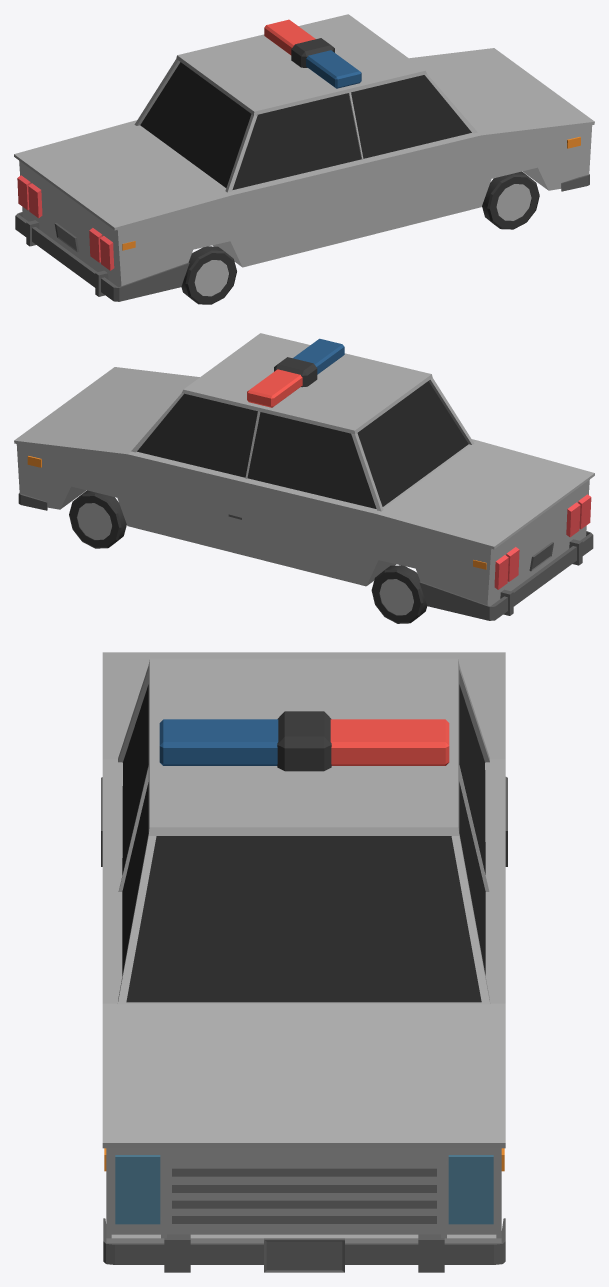
Rendered from Car_police.fbx.
The picture shows the model from 3 angles, top to bottom: view 1: azimuth 30°, elevation 25°; view 2: azimuth 150°, elevation 25°; view 3: azimuth 270°, elevation 25°; orthographic projection. The views are drawn at different scales.
Visible parts, largest first — view 1: Car_police; view 2: Car_police; view 3: Car_police.
Boxes of the visible parts, x1,y1,x2,y2 form: Car_police: (14,14,594,304); Car_police: (14,333,594,623); Car_police: (101,652,507,1272).
Bounding box in the file's own units: 6.36 × 2.38 × 2.32.
